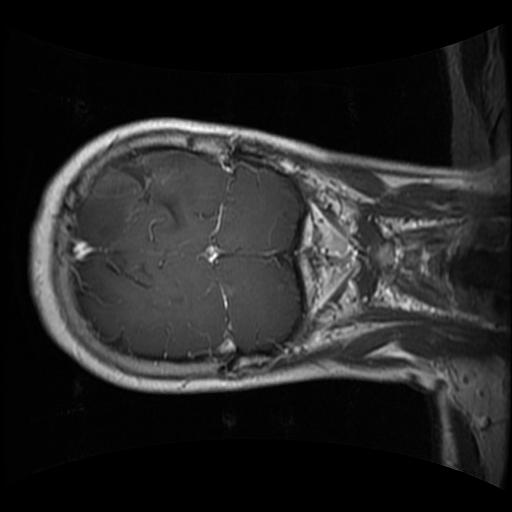glioma: (79, 160, 186, 248)
